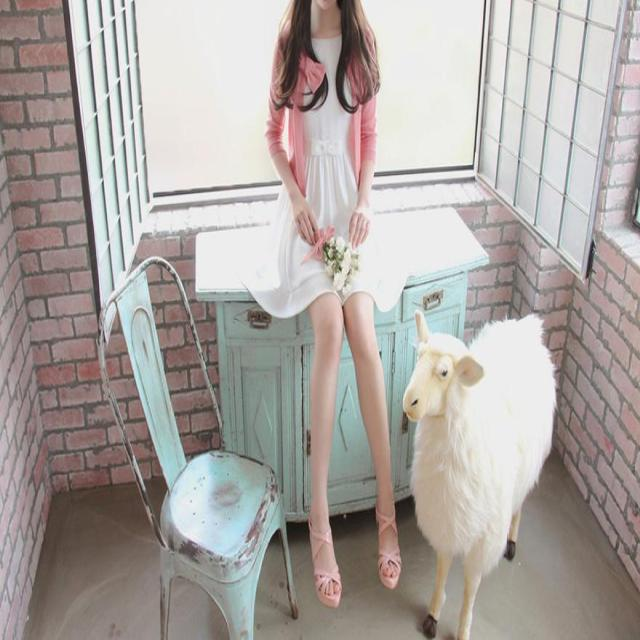short-sleeve-outwear: (249, 29, 391, 340)
